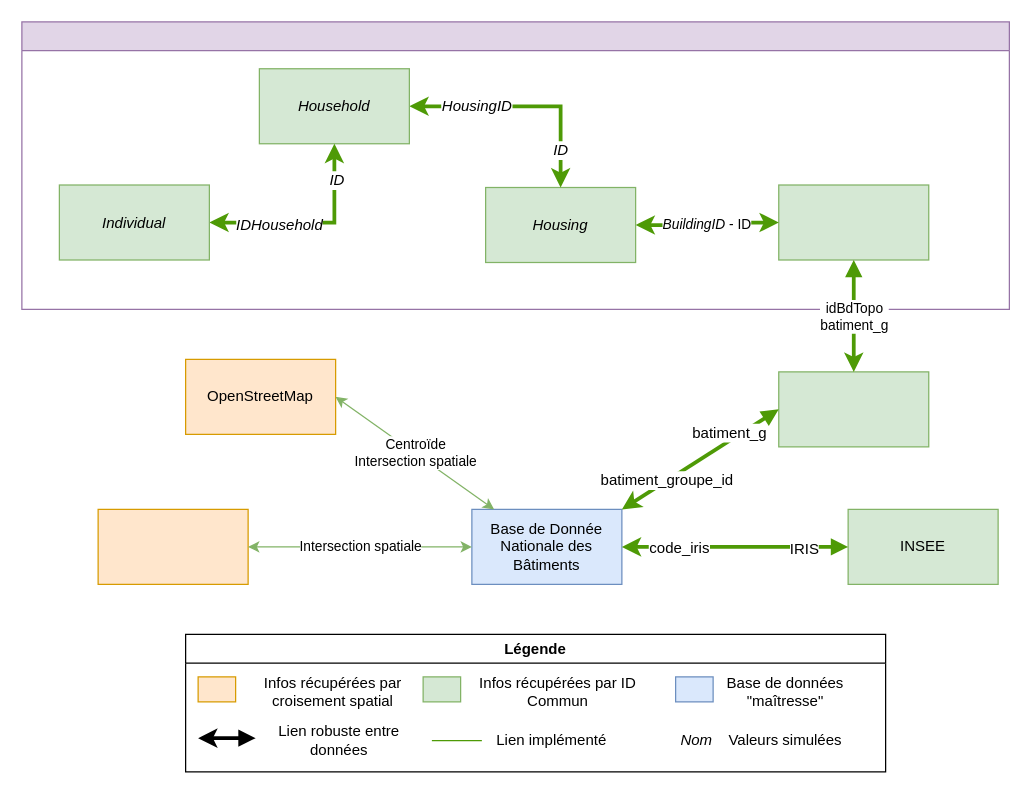
This 1031x794 diagram has some shape labels left out. The box of each missing label's shape, as (x1, y1, x2, y2) in pixels:
BD Topo: (778, 371, 929, 447)
Building: (778, 184, 929, 260)
Population synthétique: (21, 21, 1009, 309)
Territoires à Risques importants d’Inondation: (97, 508, 248, 584)
